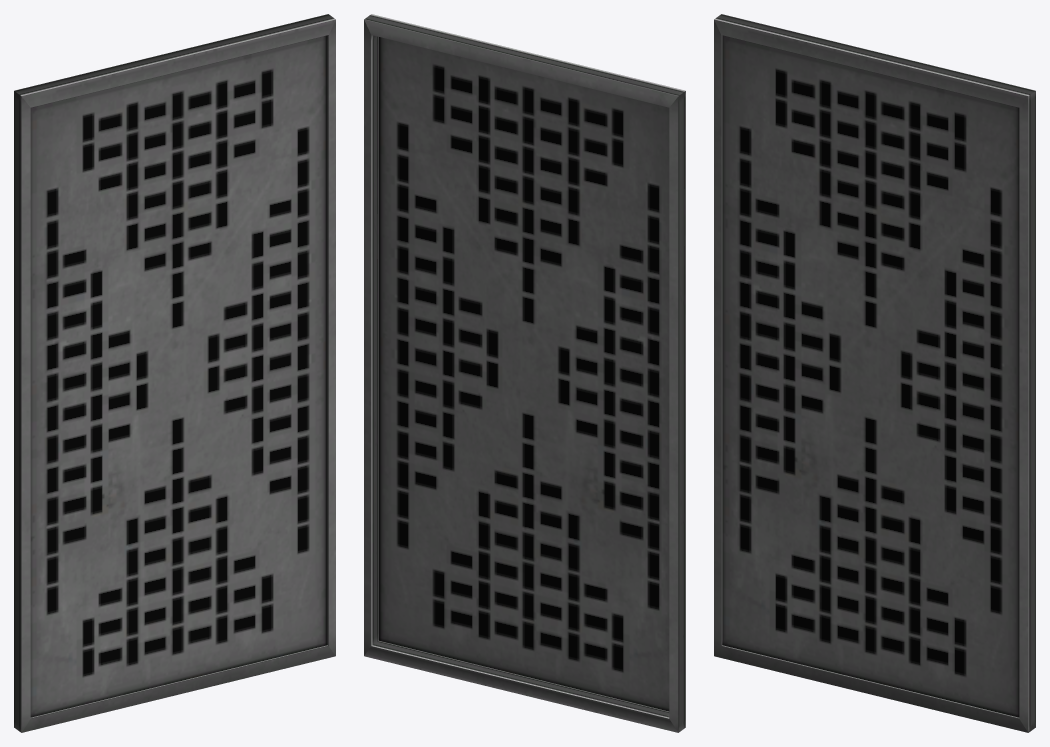
Rendered from ctl_locker_military_door_rt_lod2.glb.
3 views of the same model, side by side, from view 1: azimuth 30°, elevation 25°; view 2: azimuth 150°, elevation 25°; view 3: azimuth 330°, elevation 25° (orthographic).
Parts seen in each view (by area): view 1: surf0, surf1; view 2: surf0, surf1; view 3: surf0, surf1.
Boxes of the visible parts, x1=… form: surf0: x1=30, y1=35, x2=327, y2=717; surf1: x1=14, y1=14, x2=335, y2=732; surf0: x1=378, y1=37, x2=669, y2=711; surf1: x1=364, y1=14, x2=685, y2=732; surf0: x1=722, y1=35, x2=1019, y2=717; surf1: x1=714, y1=14, x2=1035, y2=732.
Bounding box in the file's own units: 19.25 × 37.25 × 0.993.
